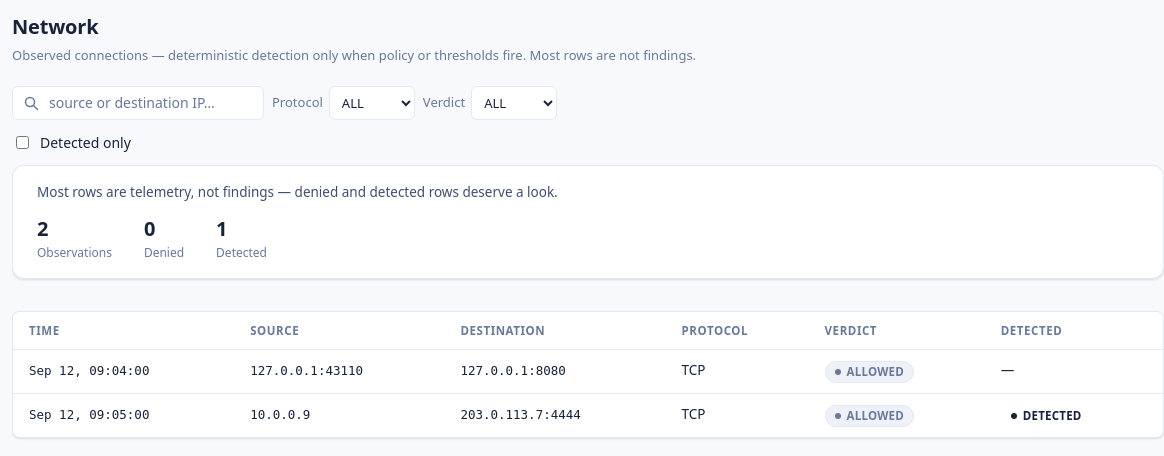
Network › searches by IP
Expected: the text "127.0.0.1:43110" is shown, [250,363,363,378]
Step 1. Type "203.0.113" into the field named "Search network" → (150, 102), box [47,91,253,114]
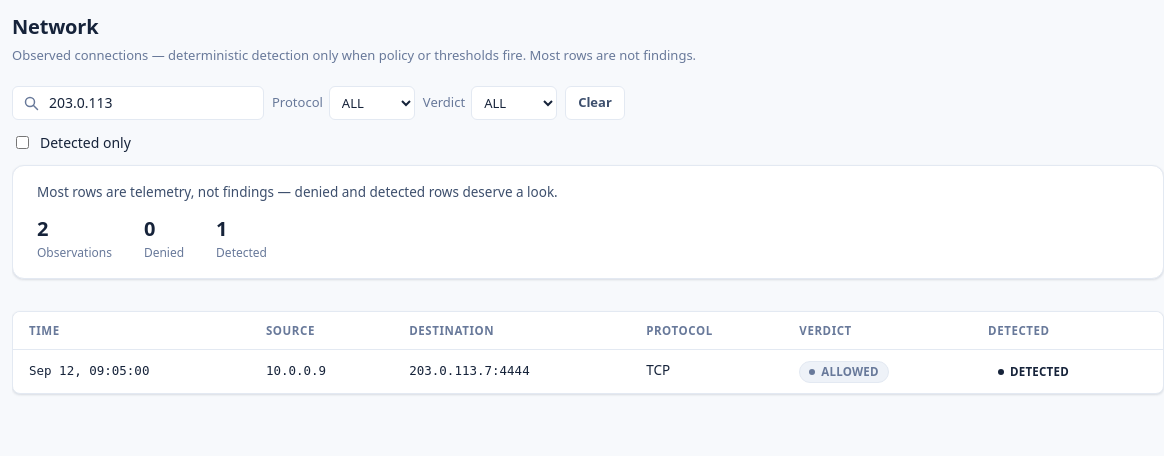
Expected: the text "127.0.0.1:43110" is gone
